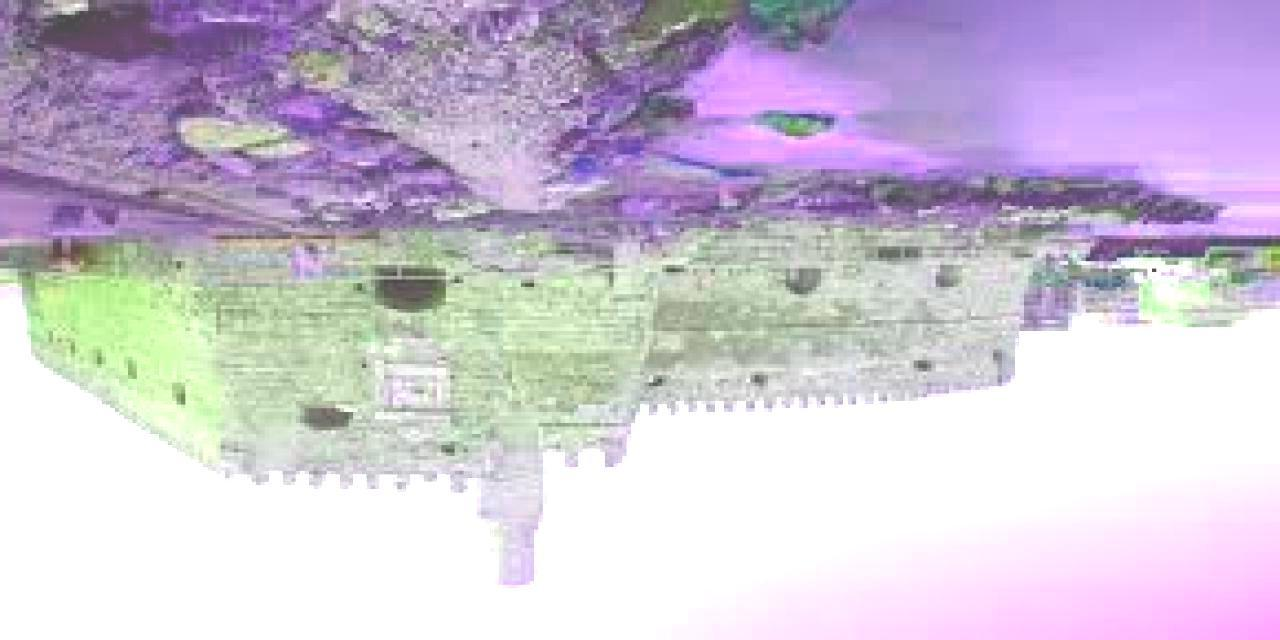Kules: (22, 239, 1035, 598)
